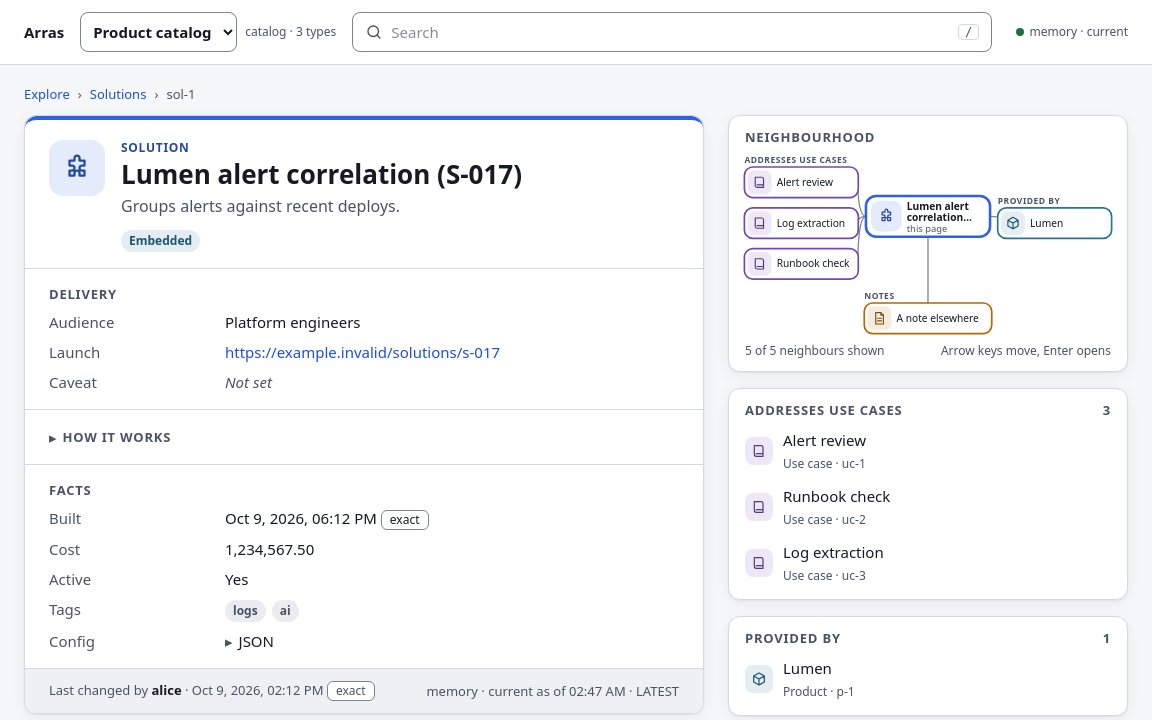
Scenario: a node page (US-067) › US-067-AC2: each property is formatted by its format: badge, link, prose, datetime, number, boolean, tags, json
Expected: the text with class "gb-badge" reads "Embedded", [129, 232, 192, 249]
Expected: the element with test id "prop-cost" reads "1,234,567.50", [225, 539, 314, 559]
Click the button with aria-label "Show stored value of Built": [405, 520] box [381, 510, 428, 530]
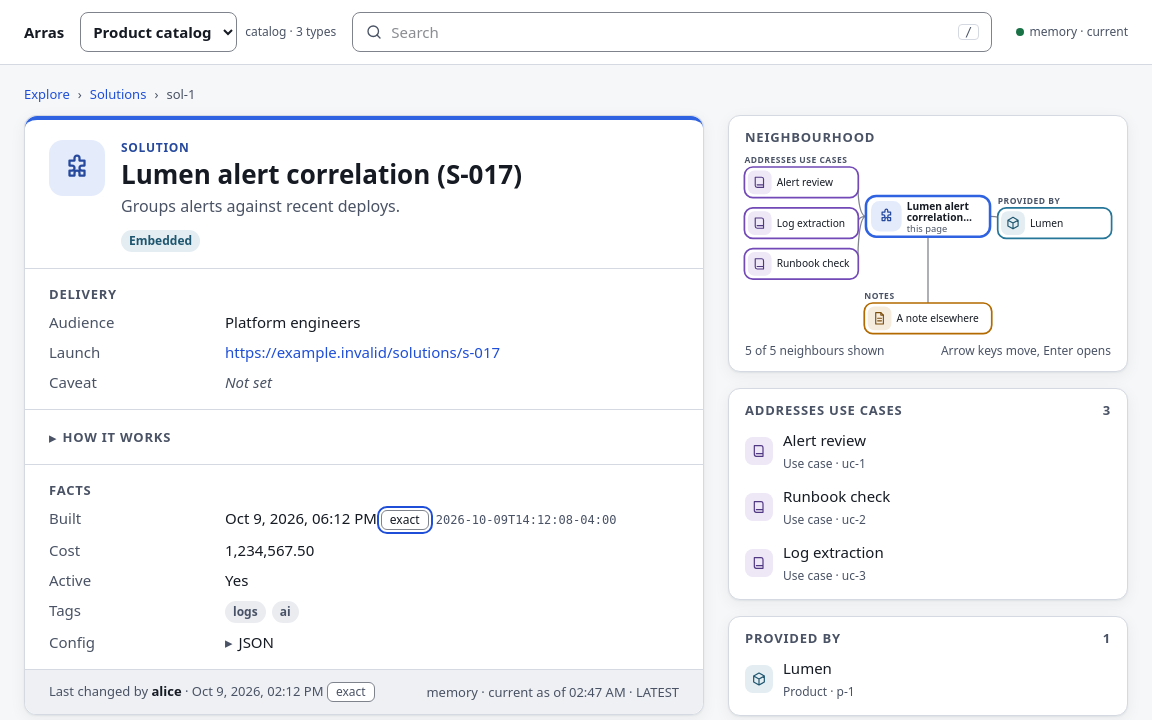
Now the text "2026-10-09T14:12:08-04:00" is shown, box [428, 513, 616, 527]
